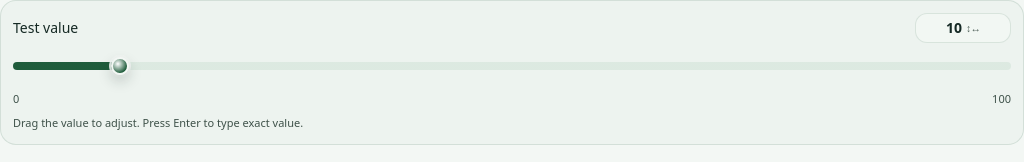
Test case: NumericSliderField › supports vertical drag and shift fine control on the value chip
The image size is (1024, 162).
Later steps or results of the test are not shown.
Press the mouse on the number field named "test value" at (963, 28), box [915,13,1011,43]
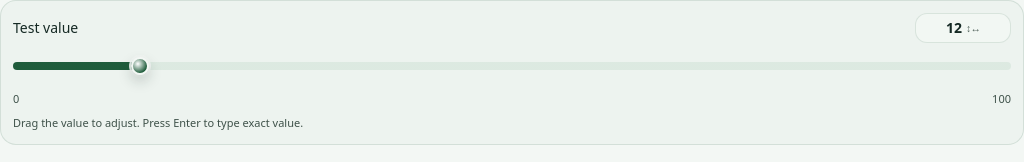
Now the number field named "test value" has attribute aria-valuenow="12"
Press the mouse on the number field named "test value" at (963, 28), box [915,13,1011,43]
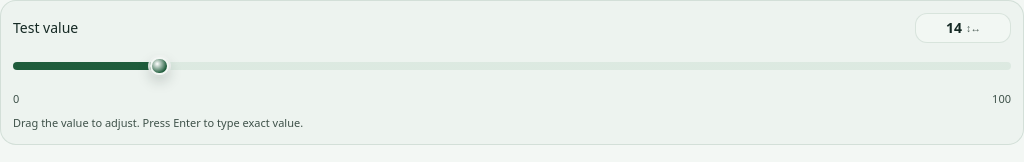
Now the number field named "test value" has attribute aria-valuenow="14", box [915,13,1011,43]
